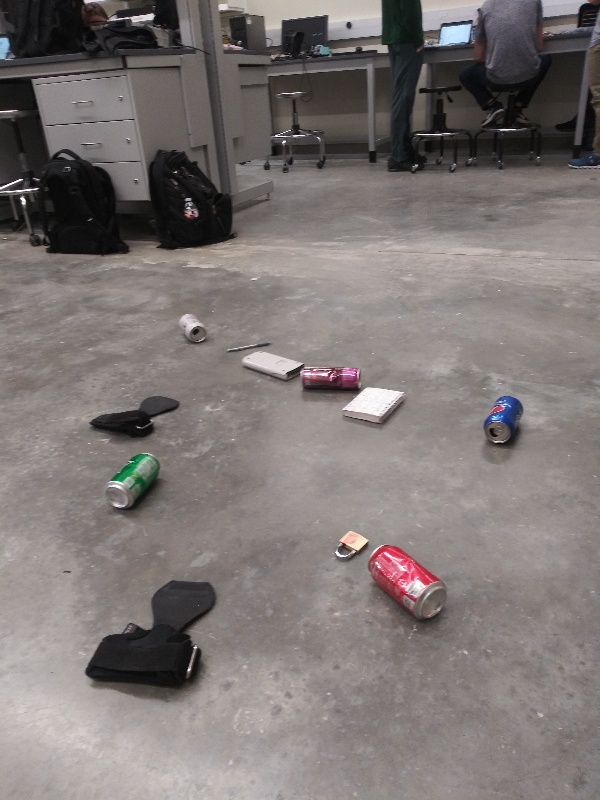can: (360, 541, 456, 625), (101, 448, 166, 512), (467, 388, 532, 448), (292, 359, 371, 394), (172, 307, 211, 344)
